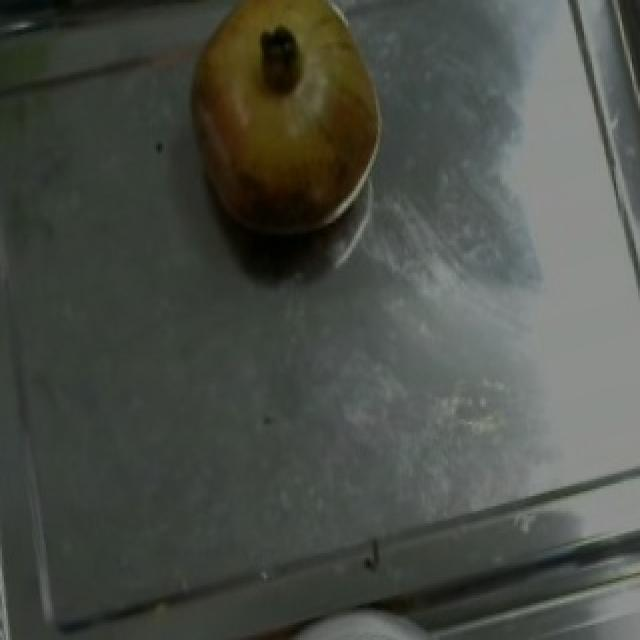fruit: (166, 0, 412, 256)
